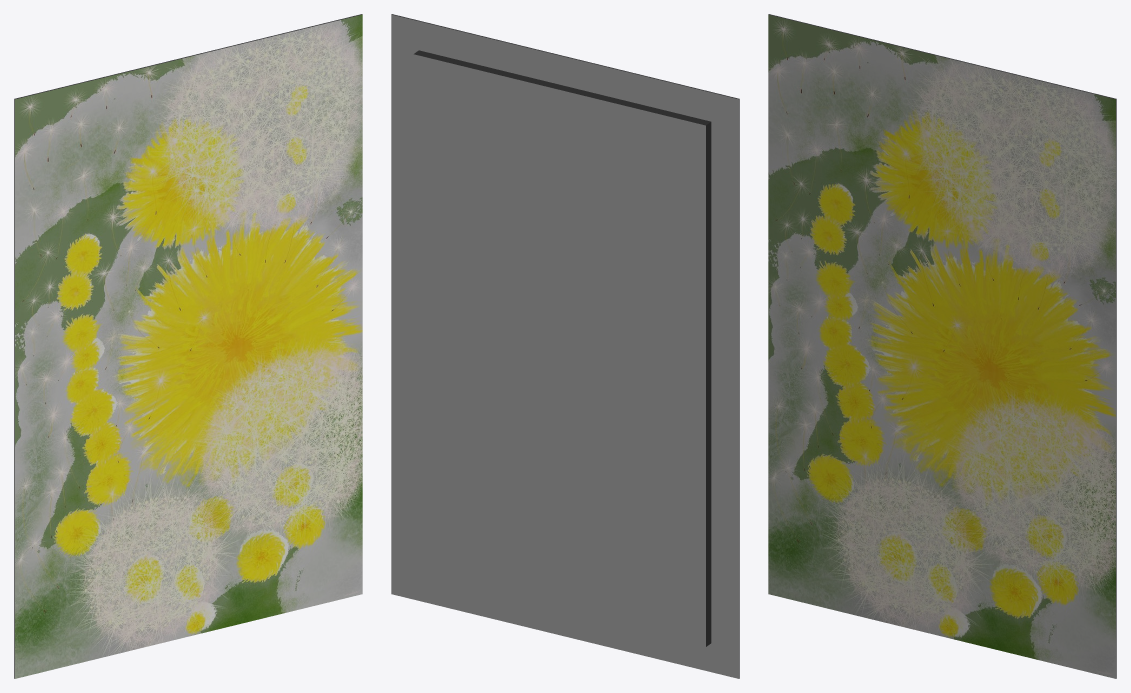
File: os028_grand_dibond.glb
3 views of the same model, side by side, from view 1: azimuth 30°, elevation 25°; view 2: azimuth 150°, elevation 25°; view 3: azimuth 330°, elevation 25° (orthographic).
Visible parts, largest first — view 1: os028_grand_dibond; view 2: os028_grand_dibond; view 3: os028_grand_dibond.
Part boxes in pixels (x1=…): os028_grand_dibond: x1=14, y1=14, x2=362, y2=678; os028_grand_dibond: x1=391, y1=14, x2=739, y2=678; os028_grand_dibond: x1=768, y1=14, x2=1116, y2=678.
Size of the model in its own units: 0.7537 by 1.2 by 0.023.
4 materials, 1 textured.
